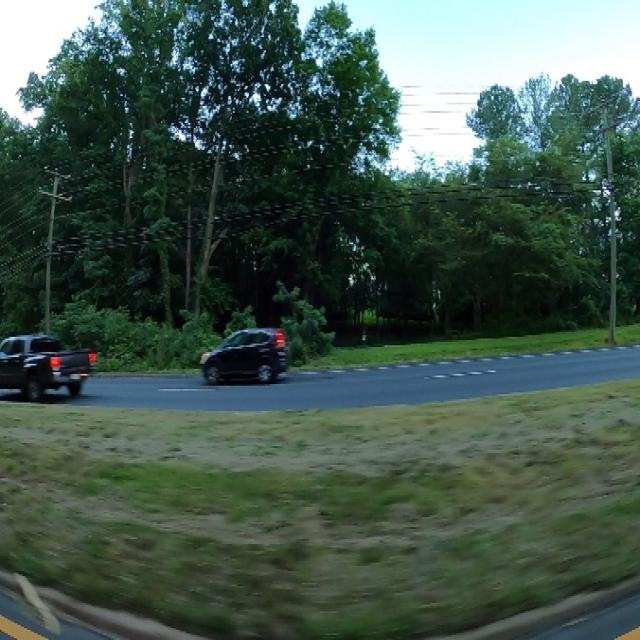car: (0, 315, 106, 406), (193, 325, 298, 389)
